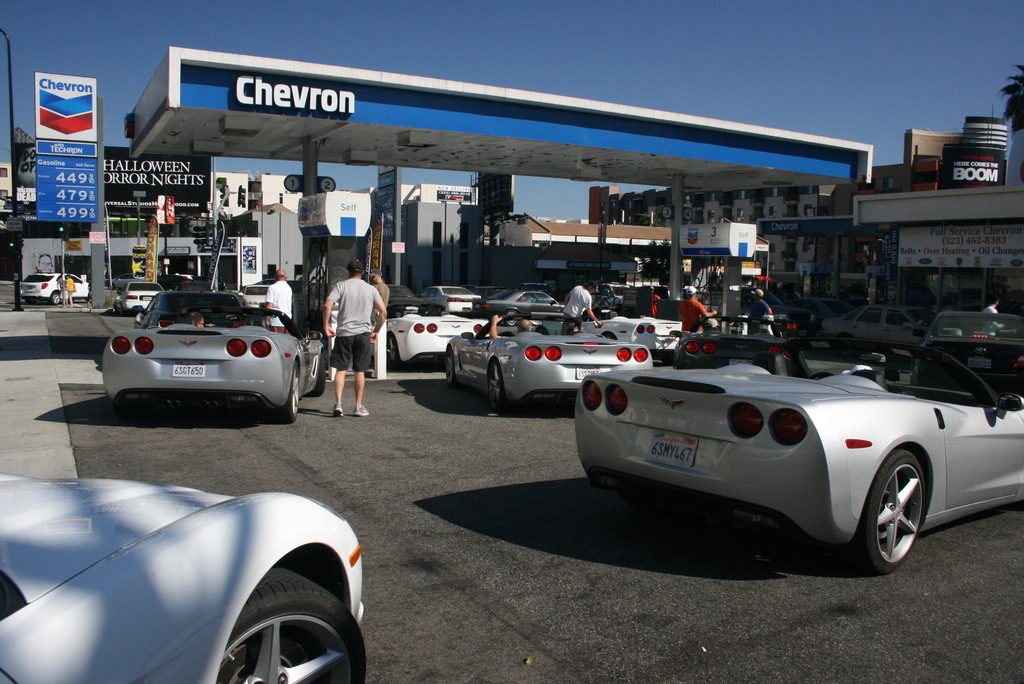Car: (565, 329, 1022, 580), (0, 470, 376, 683), (94, 298, 327, 425), (442, 313, 652, 425), (577, 310, 693, 368), (123, 284, 257, 322), (115, 276, 165, 320), (18, 270, 93, 299), (483, 286, 569, 311), (423, 281, 480, 311)
